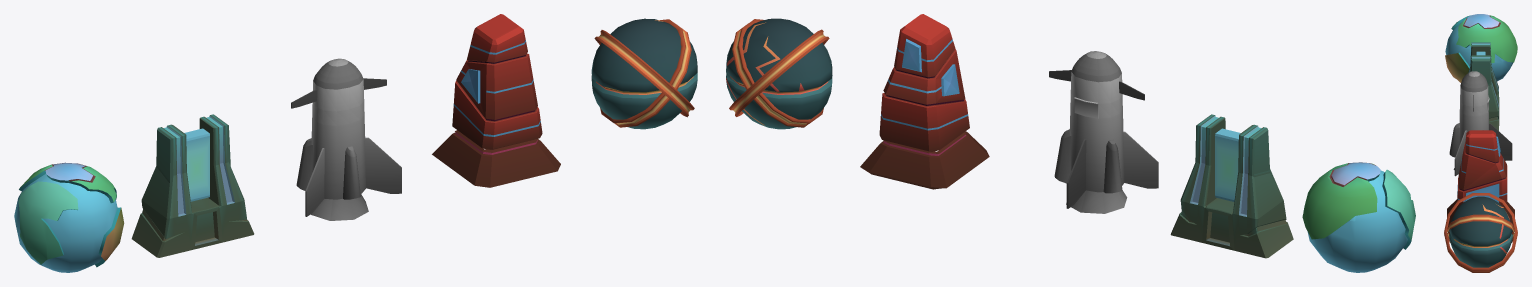
Rendered from End_t2_a5.fbx.
The picture shows the model from 3 angles, left to right: view 1: azimuth 30°, elevation 25°; view 2: azimuth 150°, elevation 25°; view 3: azimuth 270°, elevation 25°; orthographic projection. The views are drawn at different scales.
Visible parts, largest first — view 1: End_t2_a5_v3, End_t2_a5_v2, End_t2_a5_v5, End_t2_a5_v1, End_t2_a5_v4; view 2: End_t2_a5_v3, End_t2_a5_v2, End_t2_a5_v5, End_t2_a5_v1, End_t2_a5_v4; view 3: End_t2_a5_v1, End_t2_a5_v3, End_t2_a5_v4, End_t2_a5_v5, End_t2_a5_v2.
Part boxes in pixels (x1,y1,x2,y2): End_t2_a5_v3: (432, 14, 560, 187); End_t2_a5_v2: (131, 114, 254, 257); End_t2_a5_v5: (291, 58, 401, 220); End_t2_a5_v1: (591, 18, 697, 129); End_t2_a5_v4: (14, 162, 124, 272); End_t2_a5_v3: (860, 14, 989, 189); End_t2_a5_v2: (1170, 114, 1293, 258); End_t2_a5_v5: (1049, 51, 1158, 213); End_t2_a5_v1: (726, 18, 832, 129); End_t2_a5_v4: (1302, 162, 1415, 272); End_t2_a5_v1: (1444, 193, 1517, 272); End_t2_a5_v3: (1447, 130, 1514, 226); End_t2_a5_v4: (1445, 14, 1517, 82); End_t2_a5_v5: (1449, 71, 1512, 176); End_t2_a5_v2: (1468, 42, 1499, 130).
Bounding box in the file's own units: 28.68 × 6.02 × 4.15.
